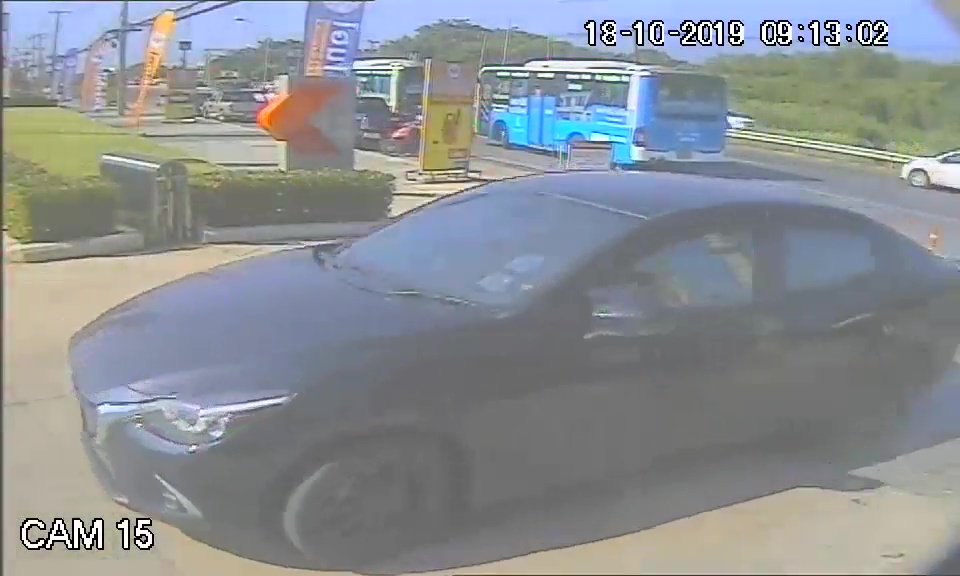sedan: (65, 173, 933, 544)
